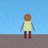person: (21, 14, 35, 38)
